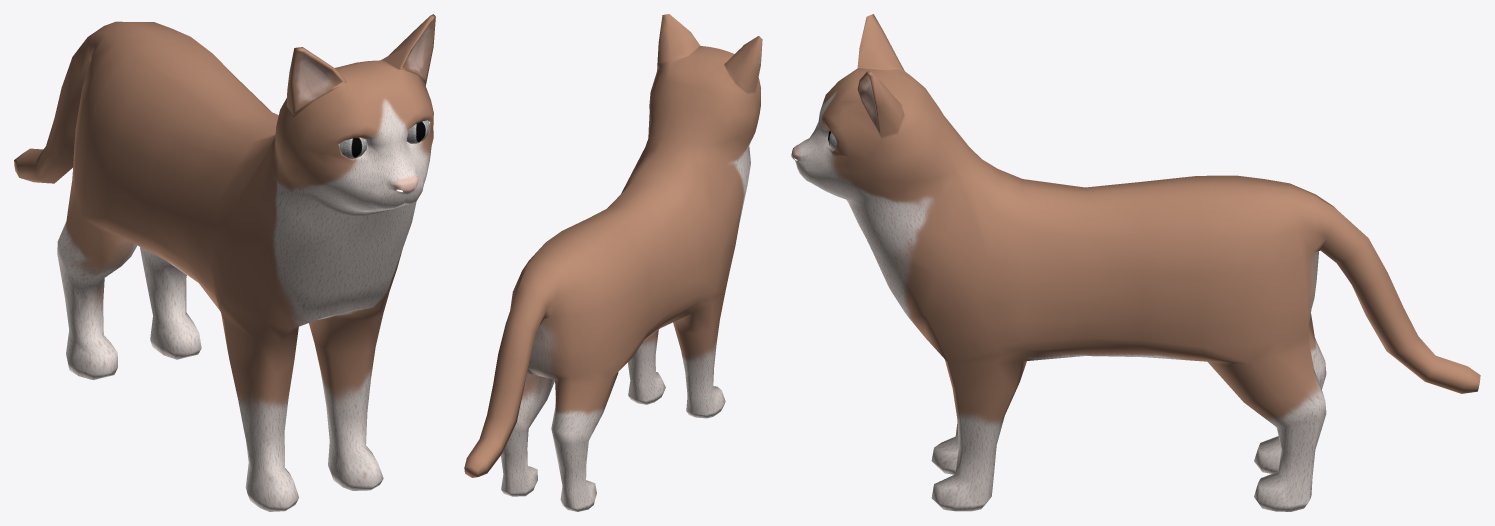
The model's file is cat_BWfawn.glb.
The picture shows the model from 3 angles, left to right: view 1: azimuth 30°, elevation 25°; view 2: azimuth 150°, elevation 25°; view 3: azimuth 270°, elevation 25°; orthographic projection. The views are drawn at different scales.
Parts seen in each view (by area): view 1: body cat_geo.001, cat_geo eyes.001; view 2: body cat_geo.001; view 3: body cat_geo.001.
Part boxes in pixels (x1,y1,x2,y2): body cat_geo.001: (14, 14, 435, 511); cat_geo eyes.001: (338, 120, 429, 158); body cat_geo.001: (464, 14, 762, 511); body cat_geo.001: (791, 14, 1480, 511).
Size of the model in its own units: 1572 by 5053 by 7130.
2 materials, 2 textured.
